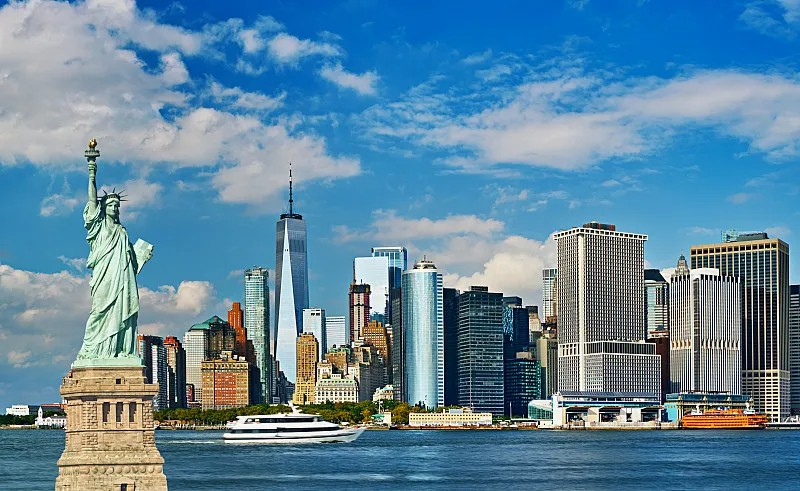SL: (54, 138, 168, 491)
